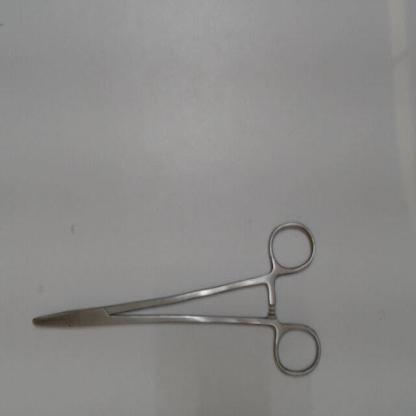8 Mayo Needle Holder: (23, 212, 328, 385)
